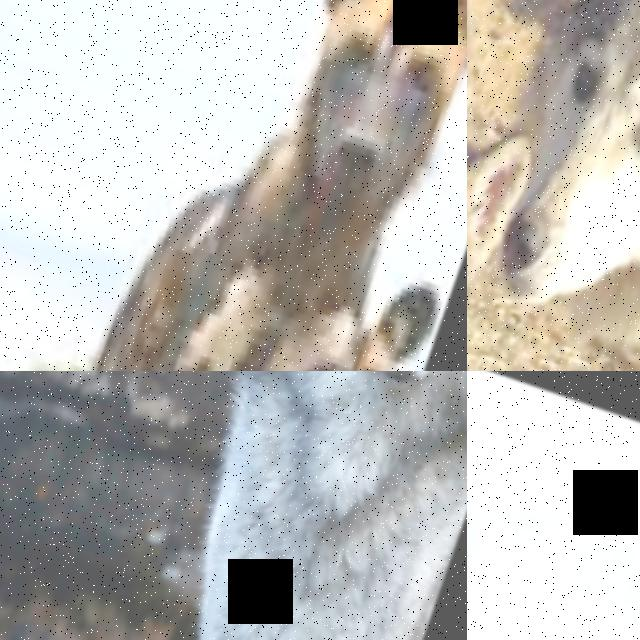dog: (0, 0, 467, 371)
wolf: (117, 371, 467, 640), (467, 0, 640, 371), (467, 66, 572, 371)
